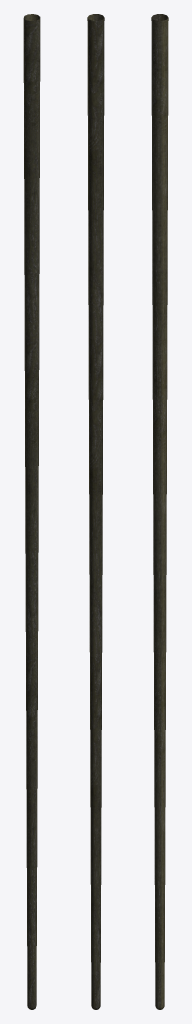
The model's file is wm_rivendell_spear_a01_handle.fbx.
The picture shows the model from 3 angles, left to right: view 1: azimuth 90°, elevation 25°; view 2: azimuth 150°, elevation 25°; view 3: azimuth 330°, elevation 25°; orthographic projection.
Parts seen in each view (by area): view 1: wm_rivendell_spear_a01_handle; view 2: wm_rivendell_spear_a01_handle; view 3: wm_rivendell_spear_a01_handle.
Part boxes in pixels (left/top/right/bottom): wm_rivendell_spear_a01_handle: left=23, top=14, right=40, bottom=1009; wm_rivendell_spear_a01_handle: left=87, top=14, right=104, bottom=1009; wm_rivendell_spear_a01_handle: left=151, top=14, right=168, bottom=1009.
Bounding box in the file's own units: 0.0323 × 0.0321 × 2.09.
1 material, 1 textured.
